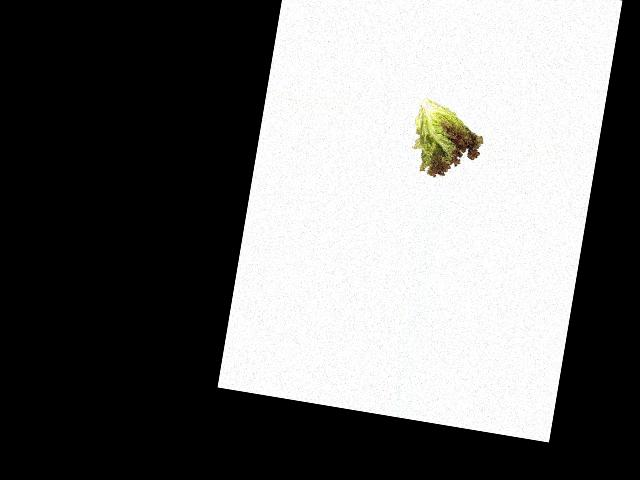lettuce: (407, 98, 487, 184)
